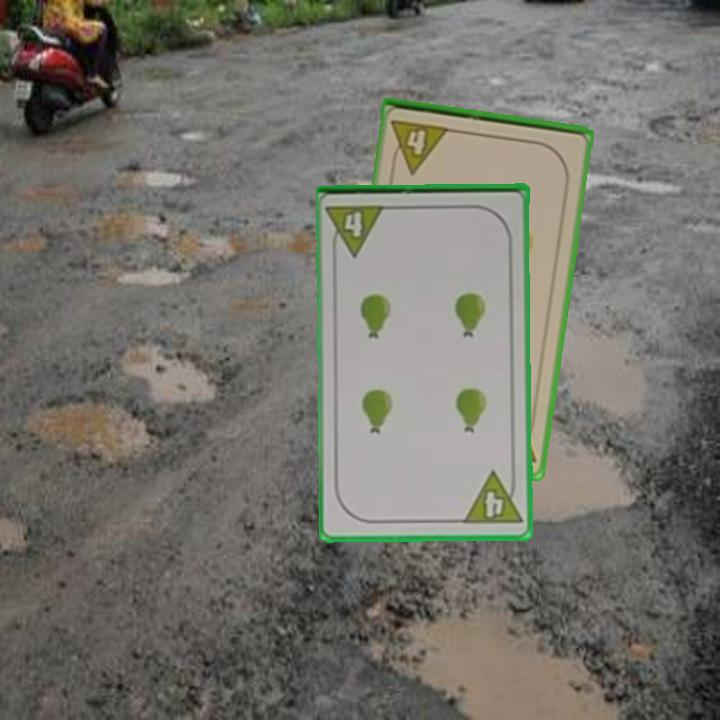4p: (387, 116, 453, 176), (460, 468, 525, 528), (324, 201, 389, 259)
